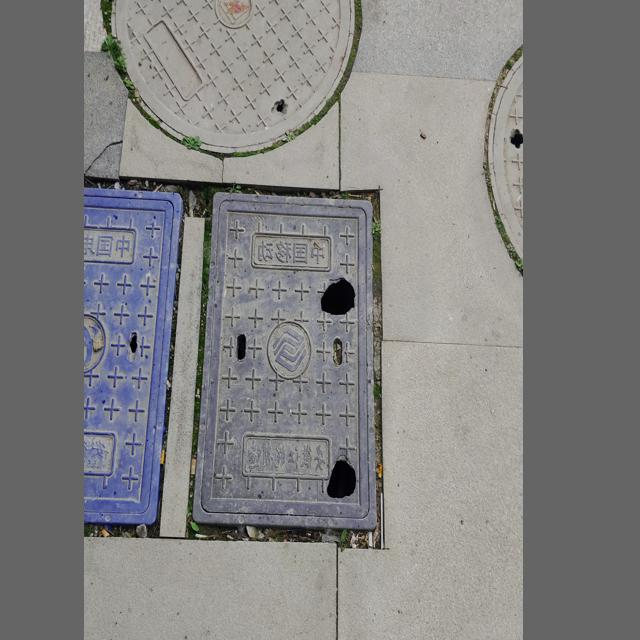broke: (191, 187, 378, 523), (109, 0, 356, 154), (84, 186, 185, 524), (490, 55, 523, 282)
